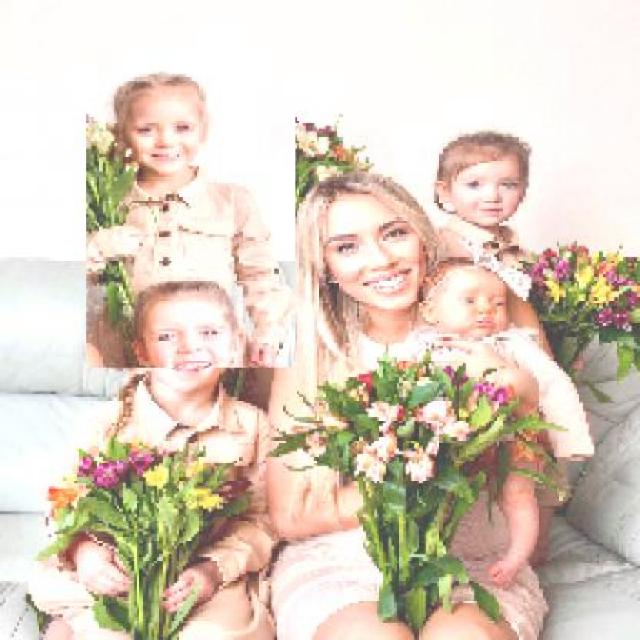child: (29, 280, 277, 637), (84, 71, 296, 369), (422, 253, 595, 590), (432, 132, 542, 255)
